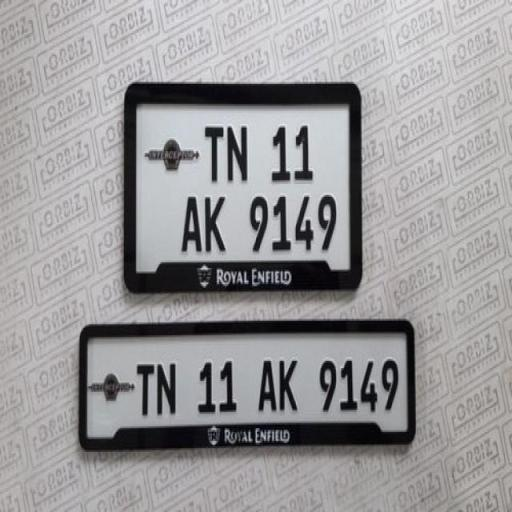number plate: (132, 95, 358, 273), (80, 334, 413, 437)
